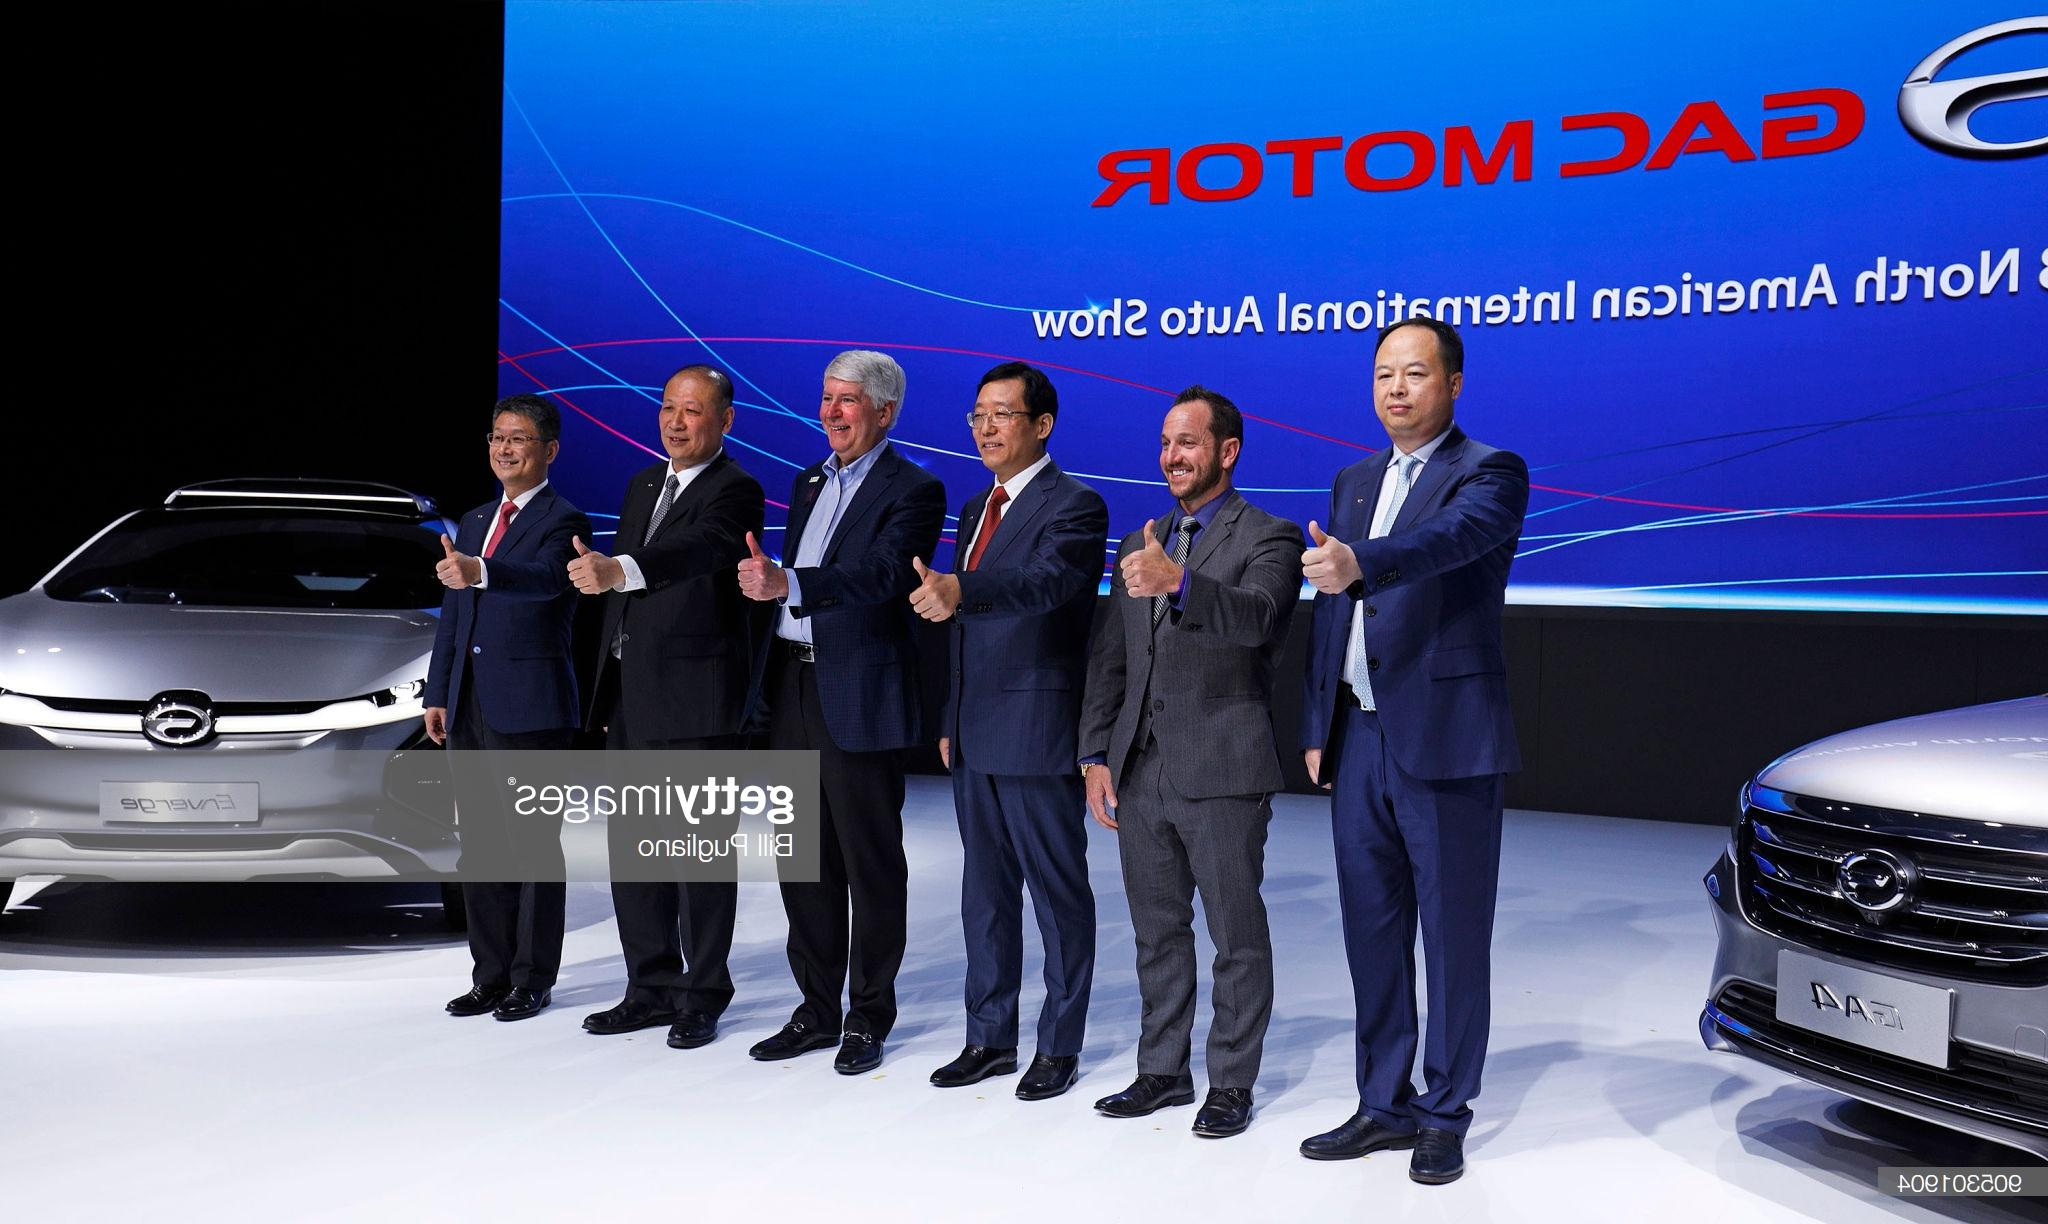thumbsup: (1299, 517, 1342, 595), (1119, 517, 1157, 597), (909, 557, 950, 622), (737, 529, 771, 600), (567, 533, 602, 595), (436, 532, 469, 589)
